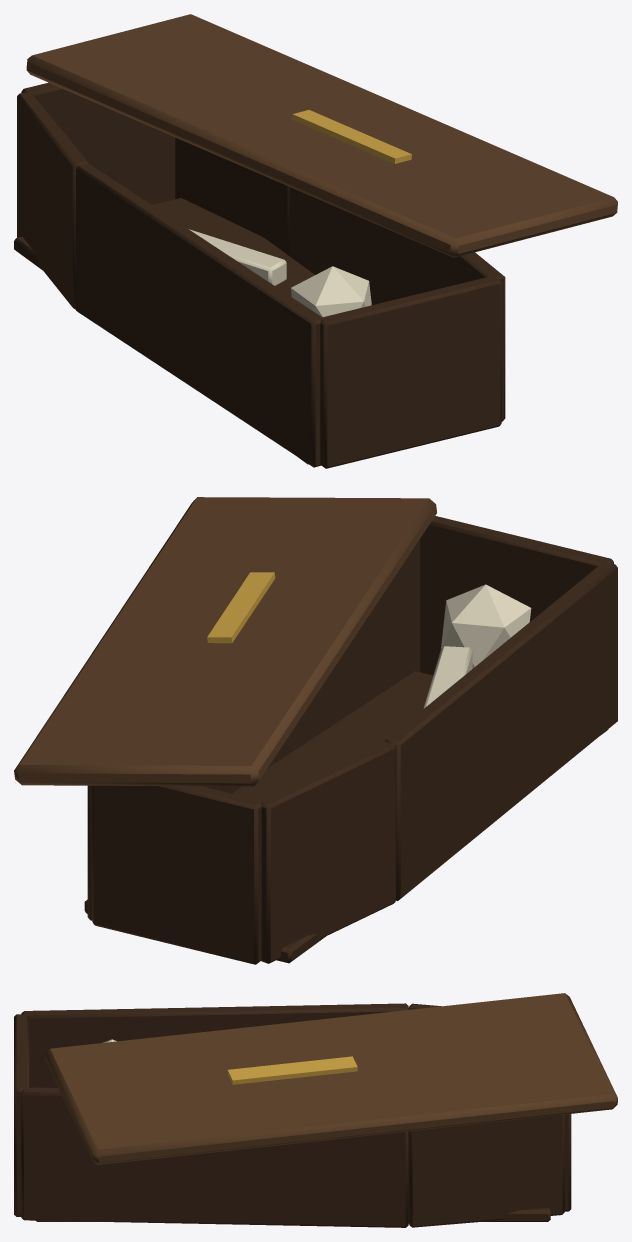
The model's file is coffin.glb.
3 renders of one model, top to bottom at view 1: azimuth 30°, elevation 25°; view 2: azimuth 150°, elevation 25°; view 3: azimuth 270°, elevation 25°, orthographic. The views are drawn at different scales.
Parts seen in each view (by area): view 1: coffin; view 2: coffin; view 3: coffin.
Boxes of the visible parts, box(x1,y1,x2,y2) form: coffin: box(14, 14, 617, 468); coffin: box(14, 497, 617, 964); coffin: box(14, 993, 617, 1227).
Size of the model in its own units: 1.44 by 0.6852 by 2.34.
